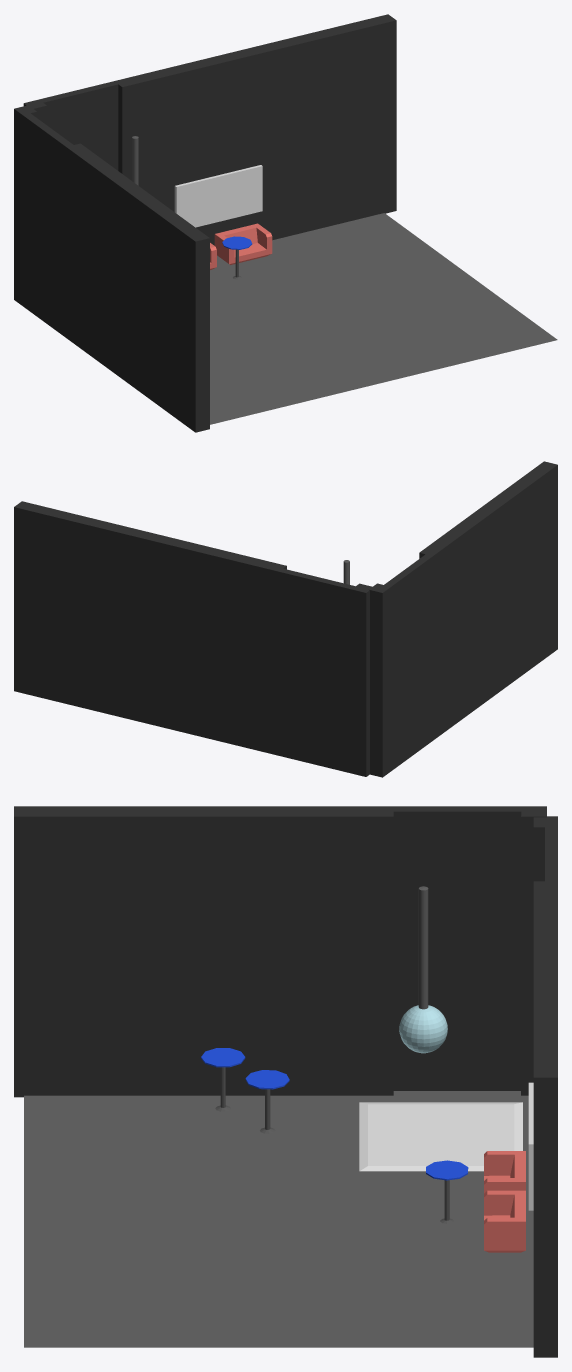
The model's file is MM_DanceStudio.fbx.
3 renders of one model, top to bottom at view 1: azimuth 30°, elevation 25°; view 2: azimuth 150°, elevation 25°; view 3: azimuth 270°, elevation 25°, orthographic. The views are drawn at different scales.
Visible parts, largest first — view 1: Wall1, Floor, Wall2, Sign1, Couch.001; view 2: Wall1, Wall2; view 3: Wall2, Floor, Wall1, DanceFloor, DiscoBall, Couch.001, Couch, Table, Table.001, Table.002, Sign1.
Boxes of the visible parts, bbox=[...] form: Wall1: bbox=[23, 14, 396, 245]; Floor: bbox=[210, 213, 557, 424]; Wall2: bbox=[14, 105, 209, 432]; Sign1: bbox=[174, 165, 262, 227]; Couch.001: bbox=[214, 223, 272, 264]; Wall1: bbox=[14, 501, 372, 776]; Wall2: bbox=[369, 461, 557, 777]; Wall2: bbox=[14, 806, 546, 1097]; Floor: bbox=[24, 1091, 533, 1347]; Wall1: bbox=[533, 816, 557, 1357]; DanceFloor: bbox=[359, 1102, 522, 1171]; DiscoBall: bbox=[399, 886, 447, 1053]; Couch.001: bbox=[484, 1190, 525, 1252]; Couch: bbox=[484, 1151, 525, 1193]; Table: bbox=[201, 1048, 245, 1111]; Table.001: bbox=[245, 1070, 289, 1133]; Table.002: bbox=[426, 1160, 468, 1223]; Sign1: bbox=[528, 1082, 533, 1210].
Bounding box in the file's own units: 5260 × 2559 × 4465.
